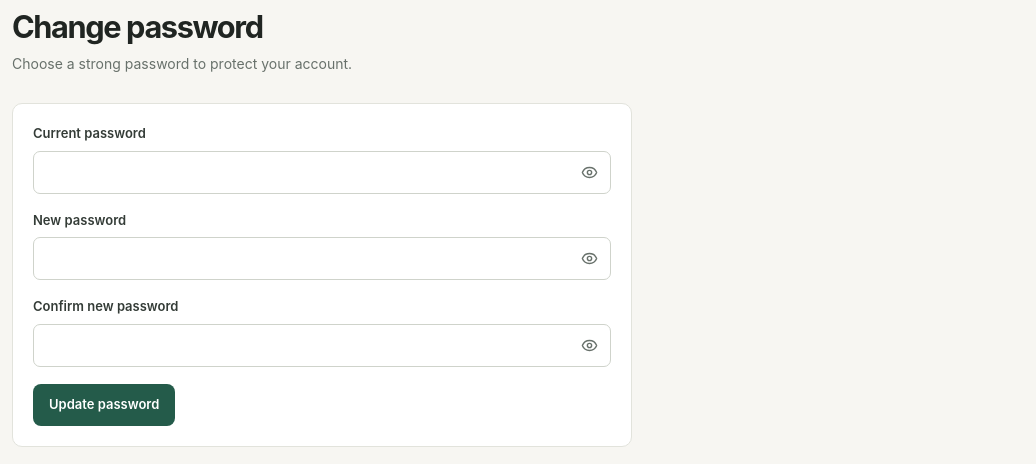
Test case: account settings and expense details › sends password values without trimming leading or trailing spaces
Type " oldpass " into the password field labelled "Current password" at {"x": 322, "y": 172}, box [33,150,611,194]
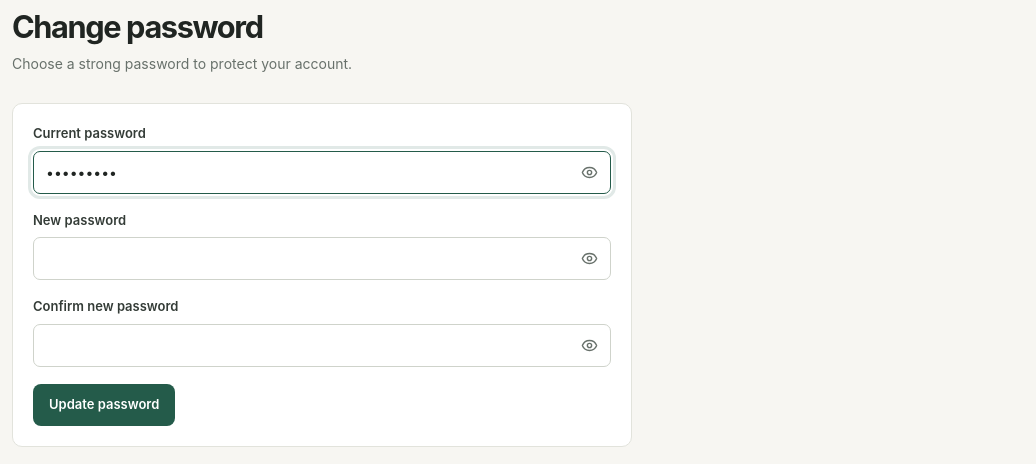
Type " newpass " into the password field labelled "New password" at {"x": 322, "y": 258}, box [33,237,611,280]
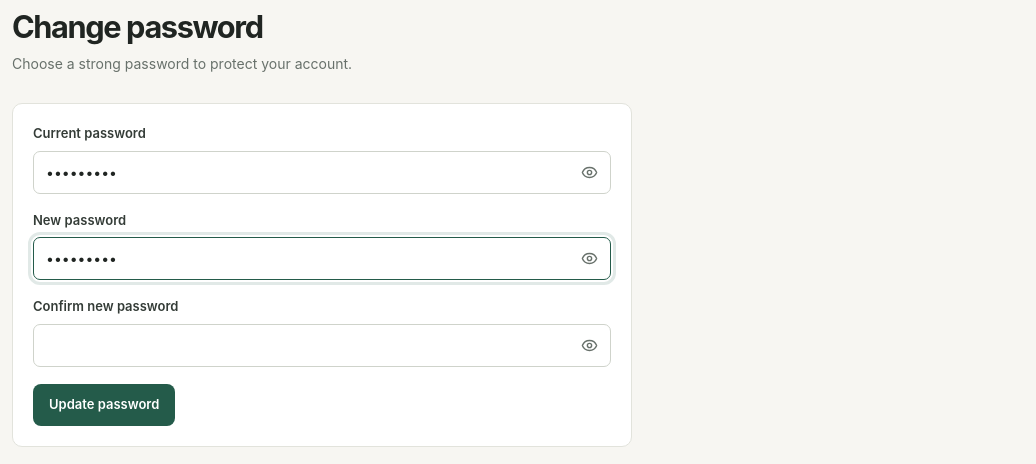
Type " newpass " into the password field labelled "Confirm new password" at {"x": 322, "y": 345}, box [33,324,611,366]
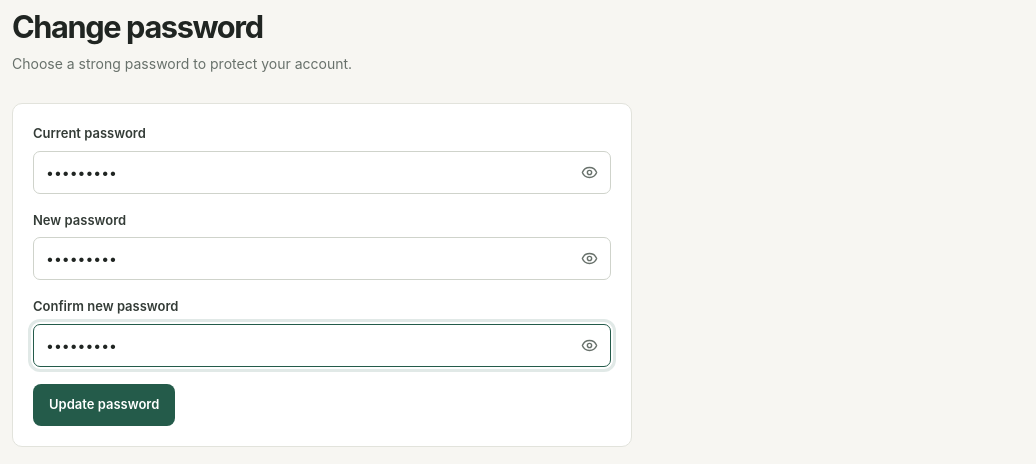
Click the button "Update password" at {"x": 104, "y": 404}, box [33,384,175,426]
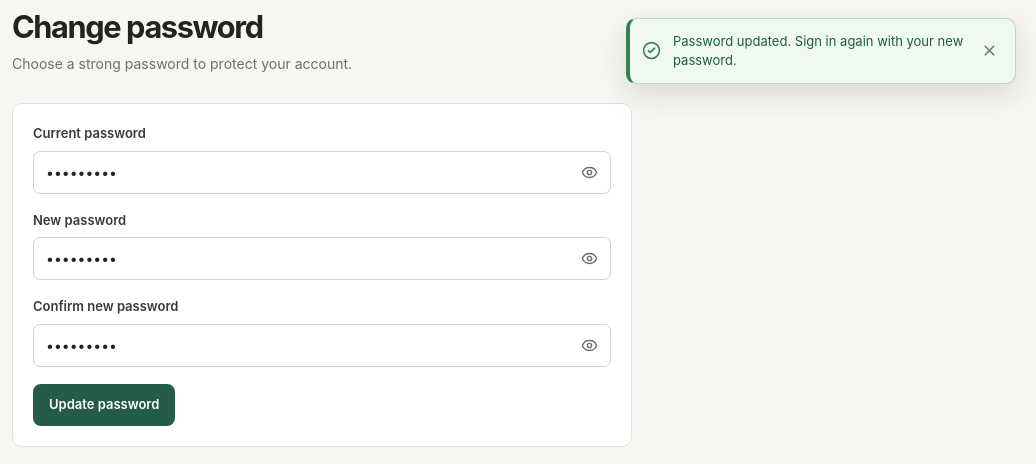
Now the message reads "Password updated. Sign in again with your new password.", box [673,33,963,68]
